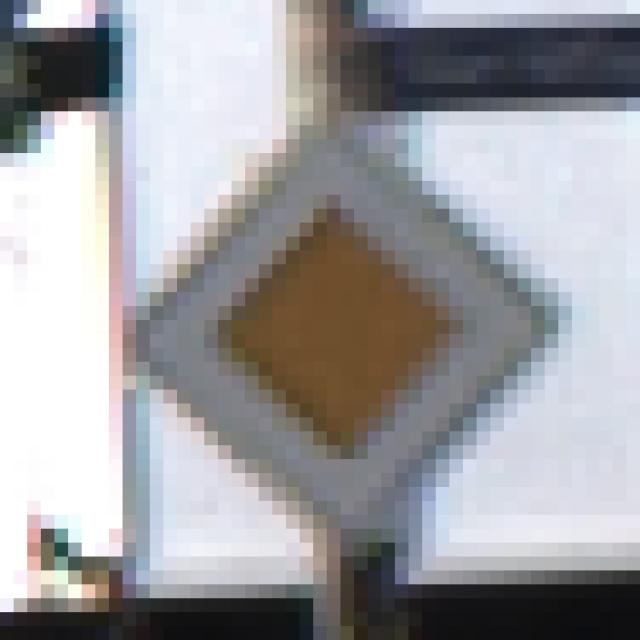Main Road: (83, 71, 573, 572)
